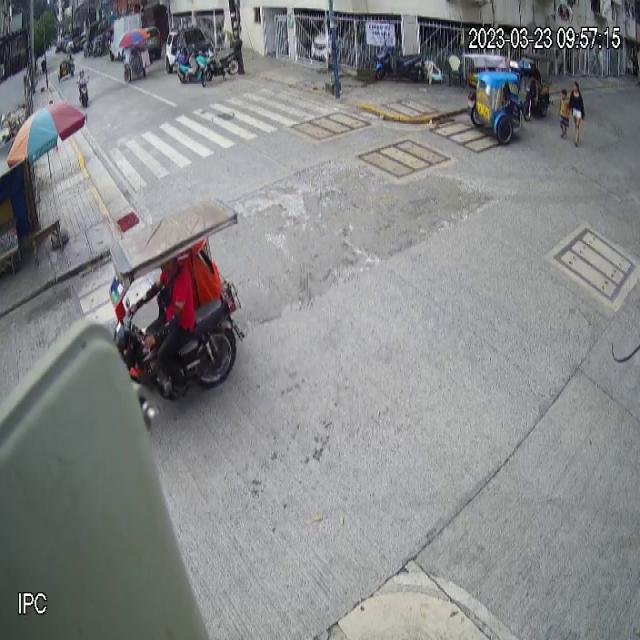Tricycle: (106, 195, 247, 402), (463, 51, 524, 144)
